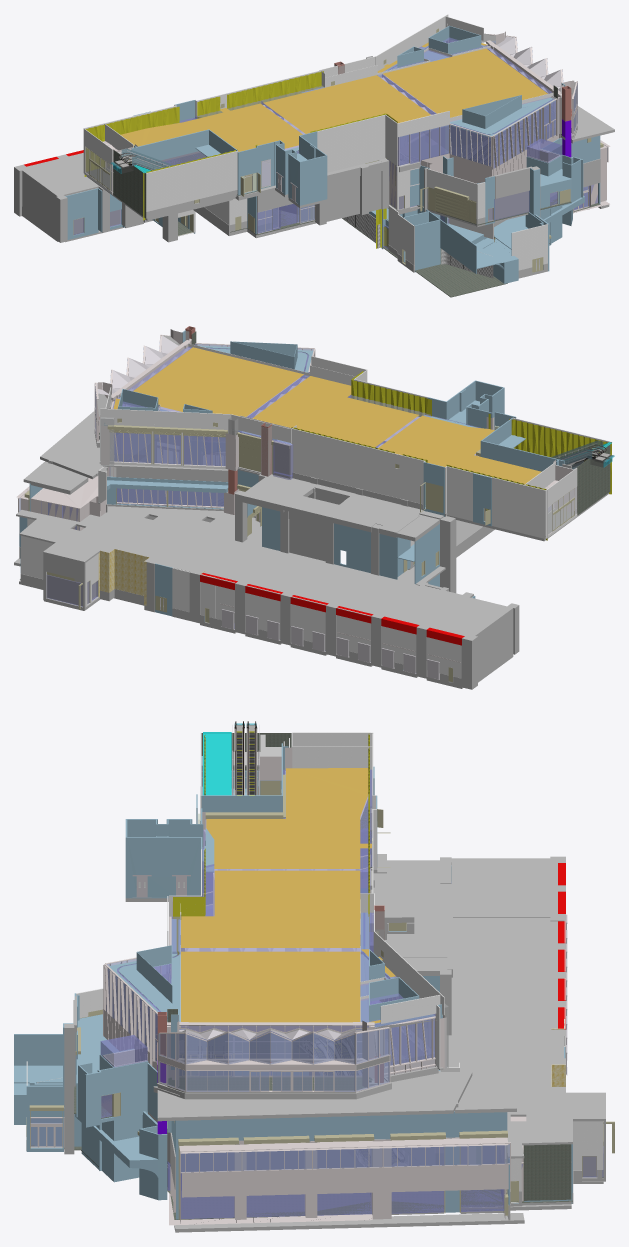
3 renders of one model, top to bottom at view 1: azimuth 30°, elevation 25°; view 2: azimuth 150°, elevation 25°; view 3: azimuth 270°, elevation 25°, orthographic. The views are drawn at different scales.
Visible parts, largest first — view 1: ペイント - ペールブルー, 漆喰 - 白 ファイン, C-22, コンクリート, ゾーン - 01, 金属 - アルミニウム, ガラス - シンプル 青 ライト, コンクリート - 03, Rhino - 013, ペイント - サンドベージュ, C-01, 金属 - ステンレス (+4 smaller); view 2: コンクリート, 漆喰 - 白 ファイン, C-22, ペイント - ペールブルー, 金属 - アルミニウム, ゾーン - 01, ペイント - サンドベージュ, ガラス - シンプル 青 ライト, Rhino - 013, 金属 - ステンレス, C-01, ペイント - バーミリオン (+7 smaller); view 3: コンクリート, C-22, ペイント - ペールブルー, 金属 - アルミニウム, ガラス - シンプル 青 ライト, ゾーン - 01, コンクリート - 03, 漆喰 - 白 ファイン, C-01, ペイント - サンドベージュ, 金属 - ステンレス, Rhino - 009 (+5 smaller).
Boxes of the visible parts, x1,y1,x2,y2 form: ペイント - ペールブルー: (65,25,600,283); 漆喰 - 白 ファイン: (83,14,559,270); C-22: (120,42,547,151); コンクリート: (14,106,614,278); ゾーン - 01: (73,37,597,248); 金属 - アルミニウム: (85,31,610,233); ガラス - シンプル 青 ライト: (258,39,607,233); コンクリート - 03: (74,85,600,297); Rhino - 013: (84,71,397,248); ペイント - サンドベージュ: (73,28,603,272); C-01: (195,45,570,268); 金属 - ステンレス: (127,36,574,203); コンクリート: (14,411,608,689); 漆喰 - 白 ファイン: (21,343,611,682); C-22: (113,347,541,483); ペイント - ペールブルー: (19,330,583,670); 金属 - アルミニウム: (16,329,577,662); ゾーン - 01: (41,346,489,661); ペイント - サンドベージュ: (24,418,574,682); ガラス - シンプル 青 ライト: (19,338,350,510); Rhino - 013: (291,371,611,540); 金属 - ステンレス: (97,335,597,679); C-01: (107,345,525,561); ペイント - バーミリオン: (200,573,464,645); コンクリート: (26,734,605,1232); C-22: (181,768,395,1023); ペイント - ペールブルー: (14,743,572,1219); 金属 - アルミニウム: (30,747,597,1225); ガラス - シンプル 青 ライト: (30,856,509,1187); ゾーン - 01: (76,769,603,1218); コンクリート - 03: (31,733,603,1219); 漆喰 - 白 ファイン: (26,732,603,1203); C-01: (14,756,440,1108); ペイント - サンドベージュ: (26,774,614,1219); 金属 - ステンレス: (120,725,567,1083); Rhino - 009: (203,732,231,795).
Bounding box in the file's own units: 8043 × 6368 × 2425.
48 materials, 7 textured.
